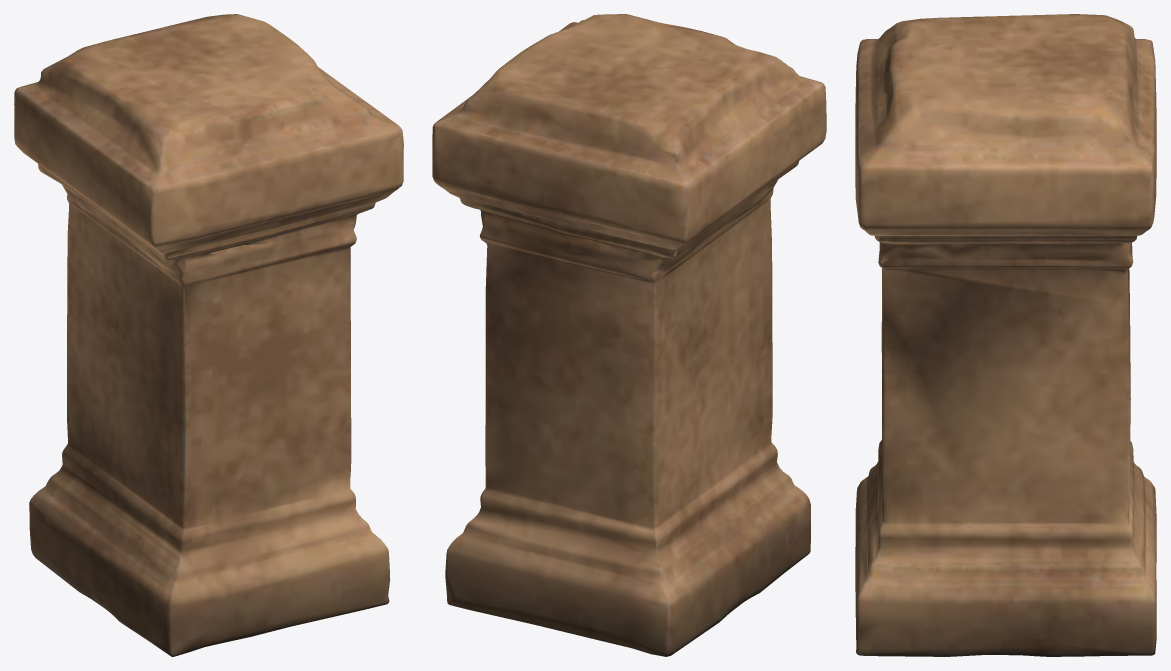
The model's file is rustic-sandstone-balustrade-v001.glb.
3 renders of one model, left to right at view 1: azimuth 30°, elevation 25°; view 2: azimuth 150°, elevation 25°; view 3: azimuth 270°, elevation 25°, orthographic. The views are drawn at different scales.
Visible parts, largest first — view 1: rustic-sandstone-balustrade; view 2: rustic-sandstone-balustrade; view 3: rustic-sandstone-balustrade.
Boxes of the visible parts, x1,y1,x2,y2 form: rustic-sandstone-balustrade: [14, 14, 403, 656]; rustic-sandstone-balustrade: [432, 14, 826, 656]; rustic-sandstone-balustrade: [855, 14, 1156, 656].
Size of the model in its own units: 0.5299 by 1.02 by 0.5168.
Materials: 1 (1 with a texture image).
